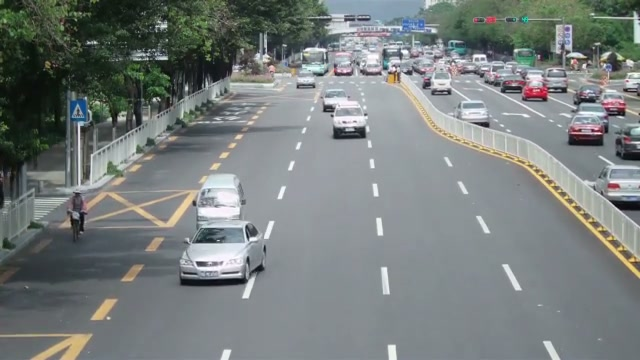bus: (302, 47, 329, 76), (514, 48, 536, 67)
car: (177, 220, 267, 285), (195, 173, 246, 226), (595, 164, 640, 209), (332, 104, 368, 139), (567, 113, 606, 145), (454, 99, 491, 127), (614, 125, 640, 160), (600, 91, 627, 116), (321, 89, 348, 113), (430, 70, 452, 95), (574, 85, 601, 105), (521, 82, 548, 101), (623, 72, 640, 94), (296, 72, 316, 89), (501, 78, 525, 92), (422, 73, 433, 89)
pedestrian: (65, 190, 87, 234)
truck: (333, 52, 354, 76)
